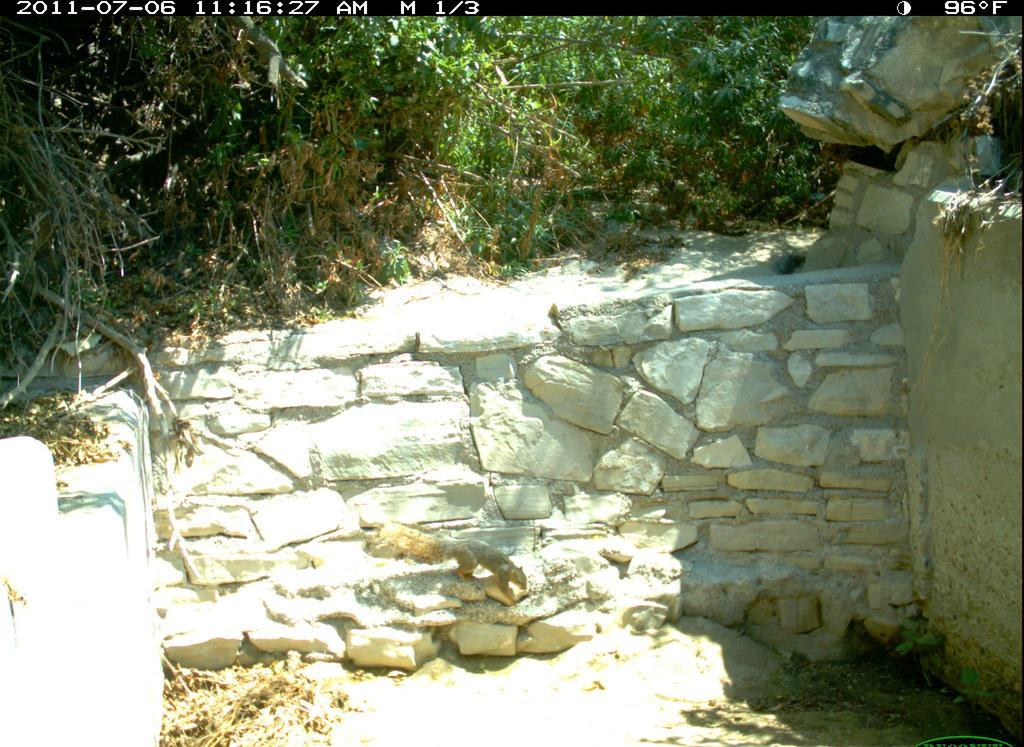squirrel: (372, 518, 539, 605)
